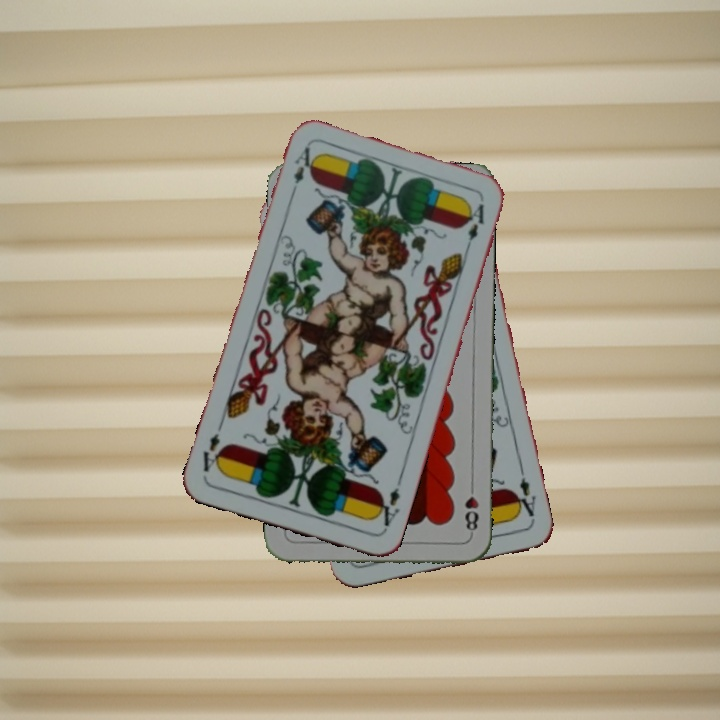EA: (286, 142, 318, 200), (510, 466, 539, 524), (371, 483, 403, 533)
H8: (461, 478, 482, 537)
